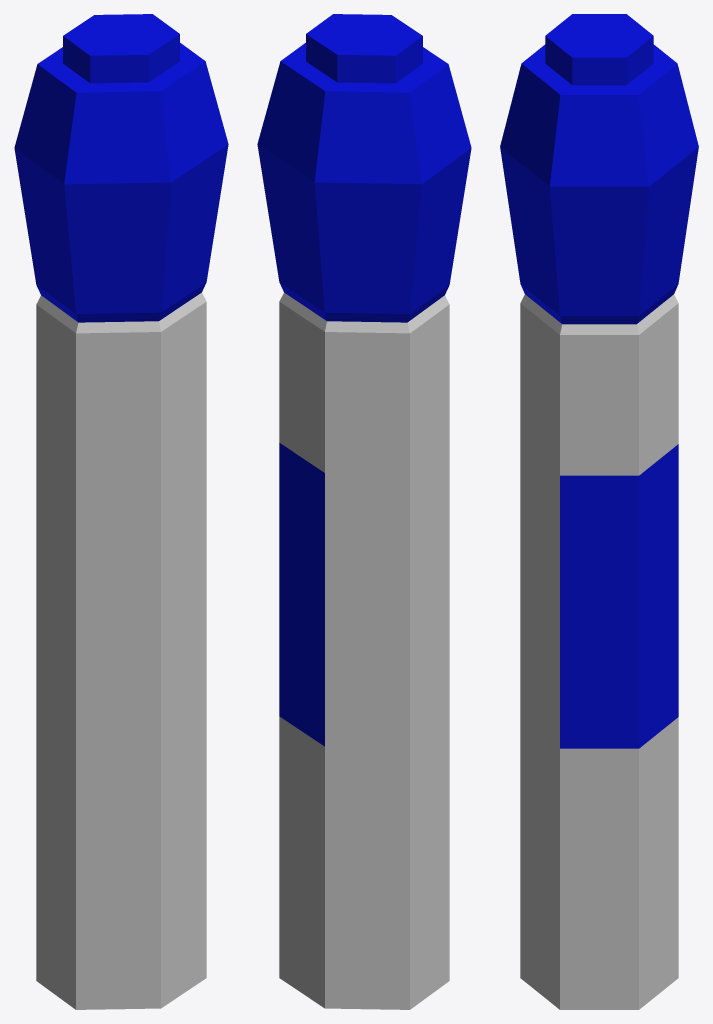
The model's file is marker.fbx.
The picture shows the model from 3 angles, left to right: view 1: azimuth 30°, elevation 25°; view 2: azimuth 150°, elevation 25°; view 3: azimuth 270°, elevation 25°; orthographic projection.
Parts seen in each view (by area): view 1: Cylinder; view 2: Cylinder; view 3: Cylinder.
Part boxes in pixels (<box>): Cylinder: <box>14,14,228,1009</box>; Cylinder: <box>257,14,471,1009</box>; Cylinder: <box>500,14,698,1009</box>.
Bounding box in the file's own units: 61.15 × 58.22 × 320.
